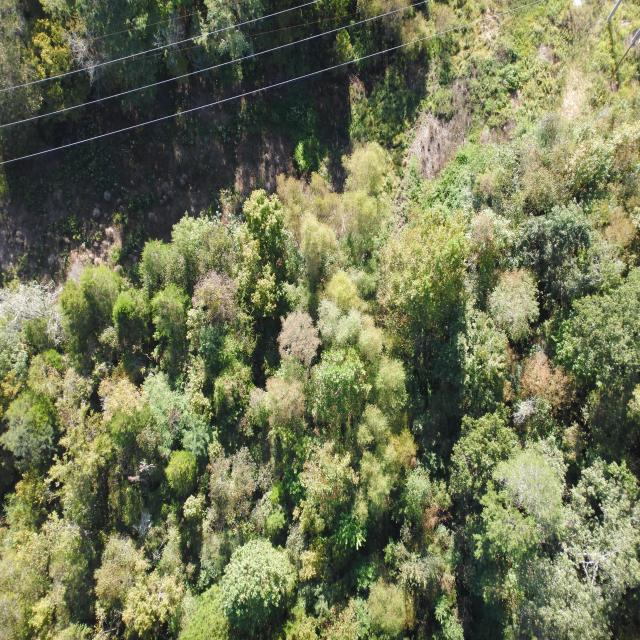Area of Interest: (15, 151, 631, 626), (12, 20, 371, 141)
